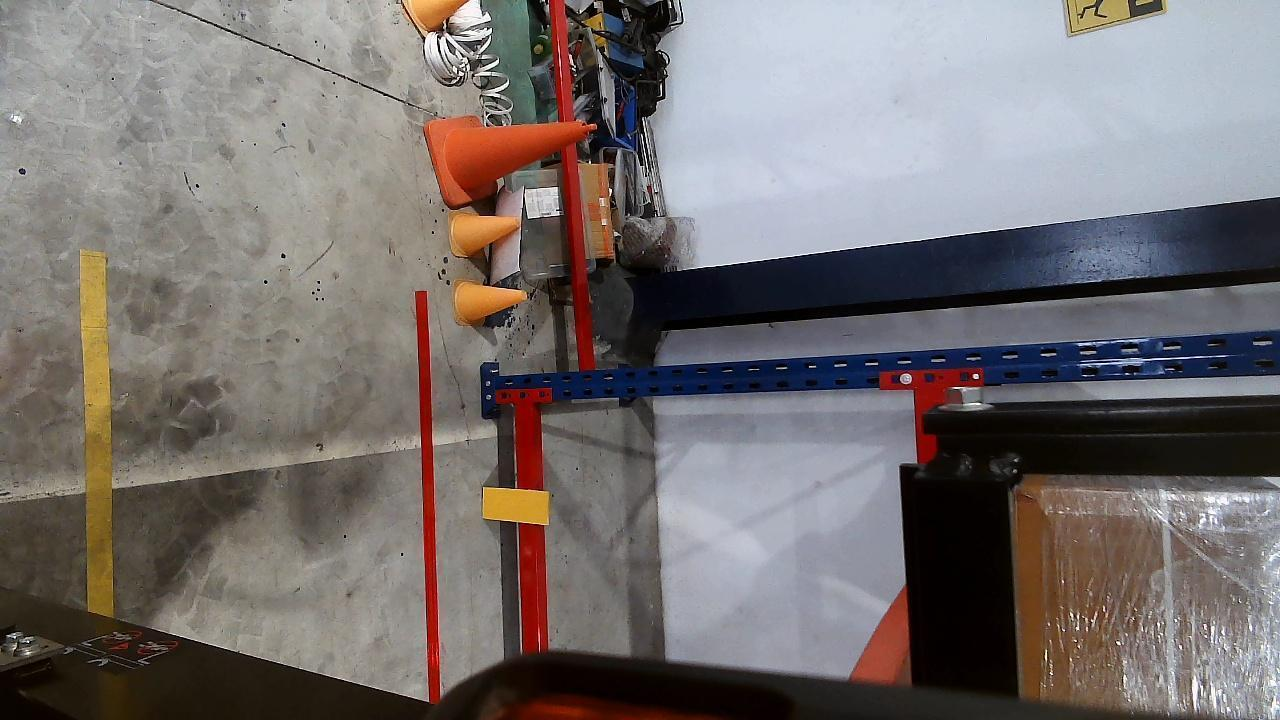red_line: (414, 293, 444, 703)
yellow_line: (79, 250, 113, 618)
